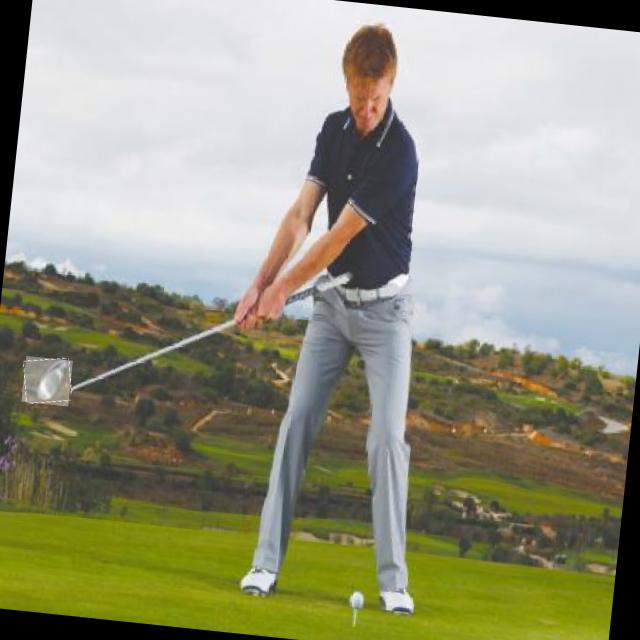club head: (21, 356, 72, 406)
